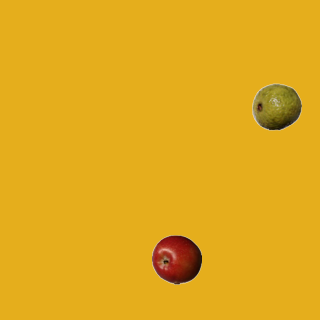Apple Braeburn: (151, 234, 201, 284)
Guava: (251, 81, 301, 131)
